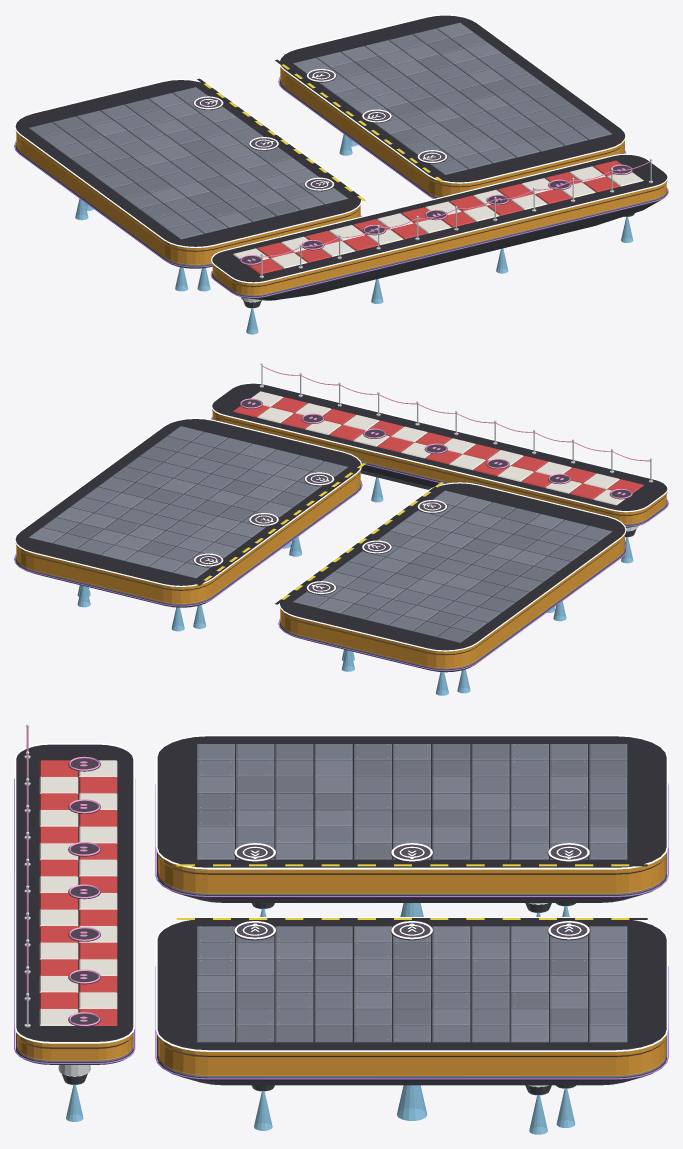
The model's file is Level_SplitIslands.fbx.
3 renders of one model, top to bottom at view 1: azimuth 30°, elevation 25°; view 2: azimuth 150°, elevation 25°; view 3: azimuth 270°, elevation 25°, orthographic. The views are drawn at different scales.
Visible parts, largest first — view 1: Split_Left_Tiles, Split_Right_Tiles, Customers_SplitIslands_Slab, Split_Left_Slab, Split_Right_Slab, Customers_SplitIslands_CheckerFloor, Split_ThrowZones, Customers_SplitIslands_QueueSpotsPosts, Customers_SplitIslands_NeonRim, Split_Left_NeonRim, Split_Right_NeonRim, Customers_SplitIslands_Engines (+3 smaller); view 2: Split_Left_Tiles, Split_Right_Tiles, Split_Right_Slab, Split_Left_Slab, Customers_SplitIslands_Slab, Customers_SplitIslands_CheckerFloor, Split_ThrowZones, Customers_SplitIslands_QueueSpotsPosts, Customers_SplitIslands_NeonRim, Split_Right_NeonRim, Split_Left_NeonRim, Split_Left_Engines (+5 smaller); view 3: Split_Right_Tiles, Split_Left_Tiles, Split_Right_Slab, Split_Left_Slab, Customers_SplitIslands_CheckerFloor, Customers_SplitIslands_Slab, Split_ThrowZones, Customers_SplitIslands_QueueSpotsPosts, Split_Left_NeonRim, Split_Right_Engines, Split_Right_NeonRim, Customers_SplitIslands_NeonRim (+5 smaller).
Part boxes in pixels (left/top/right/bottom): Split_Left_Tiles: left=28, top=87, right=348, bottom=239; Split_Right_Tiles: left=293, top=22, right=611, bottom=174; Customers_SplitIslands_Slab: left=212, top=155, right=667, bottom=300; Split_Left_Slab: left=15, top=80, right=360, bottom=268; Split_Right_Slab: left=279, top=15, right=625, bottom=198; Customers_SplitIslands_CheckerFloor: left=233, top=160, right=643, bottom=274; Split_ThrowZones: left=193, top=59, right=447, bottom=200; Customers_SplitIslands_QueueSpotsPosts: left=239, top=159, right=652, bottom=278; Customers_SplitIslands_NeonRim: left=211, top=153, right=668, bottom=283; Split_Left_NeonRim: left=14, top=79, right=362, bottom=247; Split_Right_NeonRim: left=279, top=14, right=626, bottom=183; Customers_SplitIslands_Engines: left=241, top=213, right=634, bottom=334; Split_Left_Tiles: left=293, top=490, right=612, bottom=642; Split_Right_Tiles: left=28, top=426, right=347, bottom=578; Split_Right_Slab: left=15, top=419, right=361, bottom=607; Split_Left_Slab: left=279, top=483, right=625, bottom=672; Customers_SplitIslands_Slab: left=212, top=383, right=667, bottom=527; Customers_SplitIslands_CheckerFloor: left=233, top=391, right=643, bottom=505; Split_ThrowZones: left=193, top=463, right=447, bottom=604; Customers_SplitIslands_QueueSpotsPosts: left=239, top=363, right=652, bottom=499; Customers_SplitIslands_NeonRim: left=211, top=382, right=668, bottom=512; Split_Right_NeonRim: left=14, top=418, right=361, bottom=586; Split_Left_NeonRim: left=278, top=482, right=626, bottom=651; Split_Left_Engines: left=341, top=601, right=566, bottom=695; Split_Right_Tiles: left=197, top=926, right=627, bottom=1042; Split_Left_Tiles: left=197, top=744, right=627, bottom=859; Split_Right_Slab: left=157, top=920, right=666, bottom=1085; Split_Left_Slab: left=157, top=736, right=666, bottom=902; Customers_SplitIslands_CheckerFloor: left=39, top=760, right=117, bottom=1025; Customers_SplitIslands_Slab: left=16, top=744, right=133, bottom=1064; Split_ThrowZones: left=176, top=843, right=647, bottom=940; Customers_SplitIslands_QueueSpotsPosts: left=24, top=724, right=100, bottom=1027; Split_Left_NeonRim: left=155, top=734, right=668, bottom=869; Split_Right_Engines: left=251, top=1085, right=575, bottom=1134; Split_Right_NeonRim: left=155, top=917, right=668, bottom=1051; Customers_SplitIslands_NeonRim: left=14, top=743, right=134, bottom=1043.
Size of the model in its own units: 19.1 by 4.64 by 16.7.
